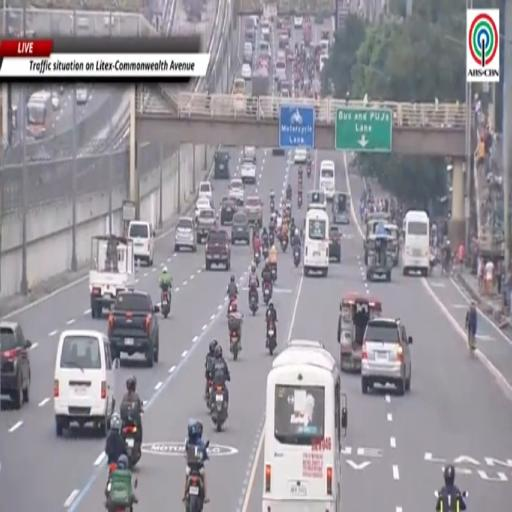bus: (262, 341, 347, 511), (402, 211, 429, 277), (303, 208, 329, 276), (26, 90, 53, 139), (319, 160, 335, 200), (232, 77, 245, 110), (307, 190, 326, 210)
car: (54, 330, 119, 437), (361, 317, 412, 395), (0, 322, 31, 409), (128, 221, 155, 266), (206, 230, 230, 270), (174, 217, 196, 251), (197, 208, 216, 243), (231, 213, 250, 245), (244, 196, 263, 226), (219, 198, 236, 226), (215, 150, 230, 179), (329, 226, 341, 262), (229, 179, 244, 205), (195, 197, 212, 218), (241, 162, 256, 183), (198, 182, 212, 202), (275, 60, 287, 82), (76, 85, 88, 104), (243, 147, 256, 164), (243, 42, 253, 63), (294, 148, 307, 164), (261, 19, 270, 40), (241, 63, 251, 81), (319, 54, 328, 72), (319, 38, 329, 54), (279, 32, 288, 49), (52, 91, 60, 110), (245, 26, 255, 41), (278, 78, 290, 90), (294, 15, 303, 28), (276, 51, 285, 61), (280, 89, 290, 98)
jeepney: (339, 294, 381, 372), (364, 213, 390, 265), (367, 234, 392, 281), (385, 223, 399, 267), (333, 192, 350, 223)
motorcycle: (105, 463, 132, 511), (122, 421, 141, 469), (210, 385, 226, 432), (186, 471, 204, 511), (267, 319, 276, 355), (230, 329, 239, 360), (161, 291, 171, 317), (249, 290, 258, 315), (205, 379, 212, 409), (263, 282, 271, 306), (294, 246, 300, 267), (281, 235, 288, 252), (254, 249, 261, 265), (268, 230, 274, 246), (451, 501, 460, 511), (271, 265, 276, 282), (263, 246, 269, 260), (270, 199, 275, 213), (286, 188, 291, 200), (298, 194, 302, 209), (307, 165, 311, 178)
truck: (108, 291, 159, 366), (89, 235, 135, 318), (196, 208, 216, 244), (252, 67, 270, 97), (184, 0, 204, 22)
